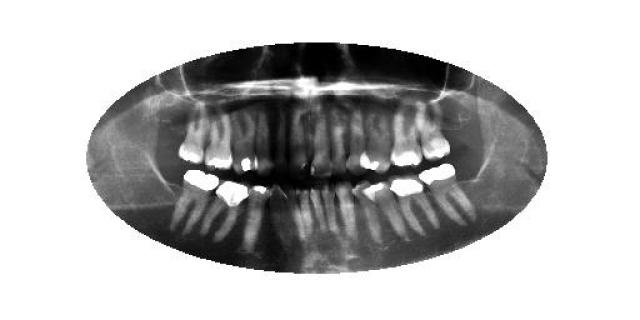Fillings: (419, 164, 479, 228), (171, 168, 220, 234), (202, 181, 252, 241), (389, 172, 439, 232), (362, 182, 408, 238), (242, 182, 274, 252), (178, 101, 208, 164), (392, 105, 422, 167), (208, 106, 234, 172), (241, 111, 260, 172)
